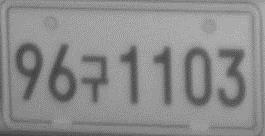0: (184, 45, 212, 106)
1: (120, 45, 142, 106), (152, 45, 174, 104)
3: (217, 48, 246, 108)
6: (47, 41, 75, 102)
9: (16, 43, 43, 101)
구: (81, 54, 109, 104)
